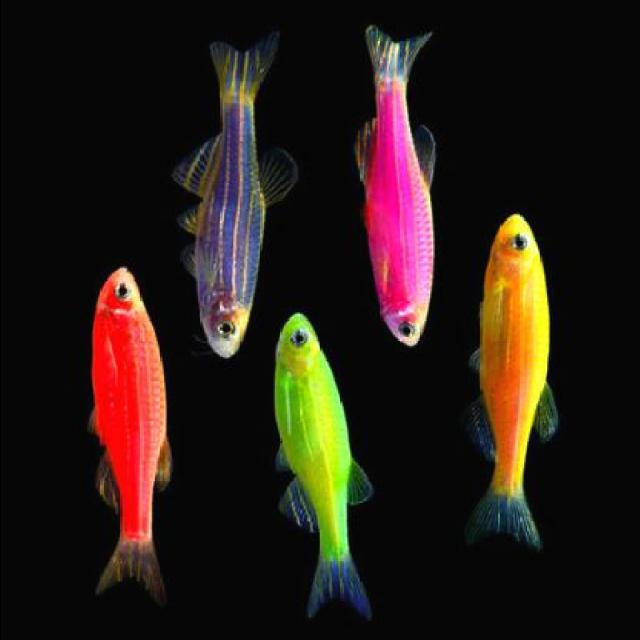ZebraFish: (173, 28, 289, 360), (269, 313, 377, 616), (471, 215, 560, 554), (86, 266, 170, 596), (357, 28, 437, 344)
